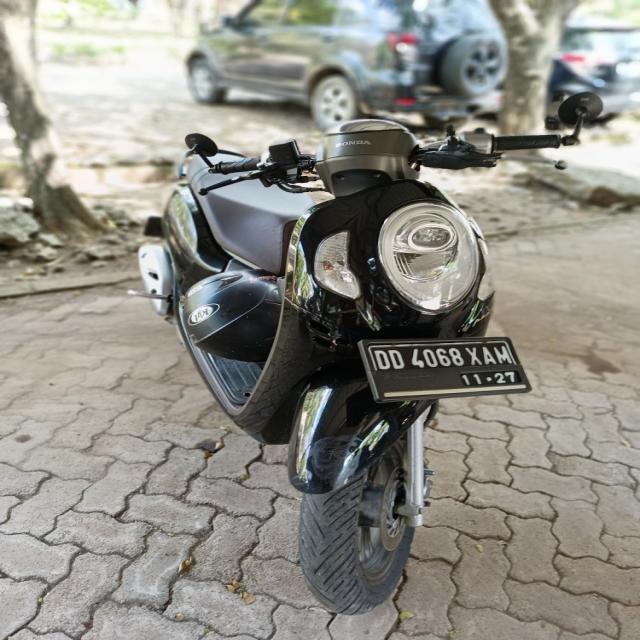plates: (354, 338, 536, 404)
